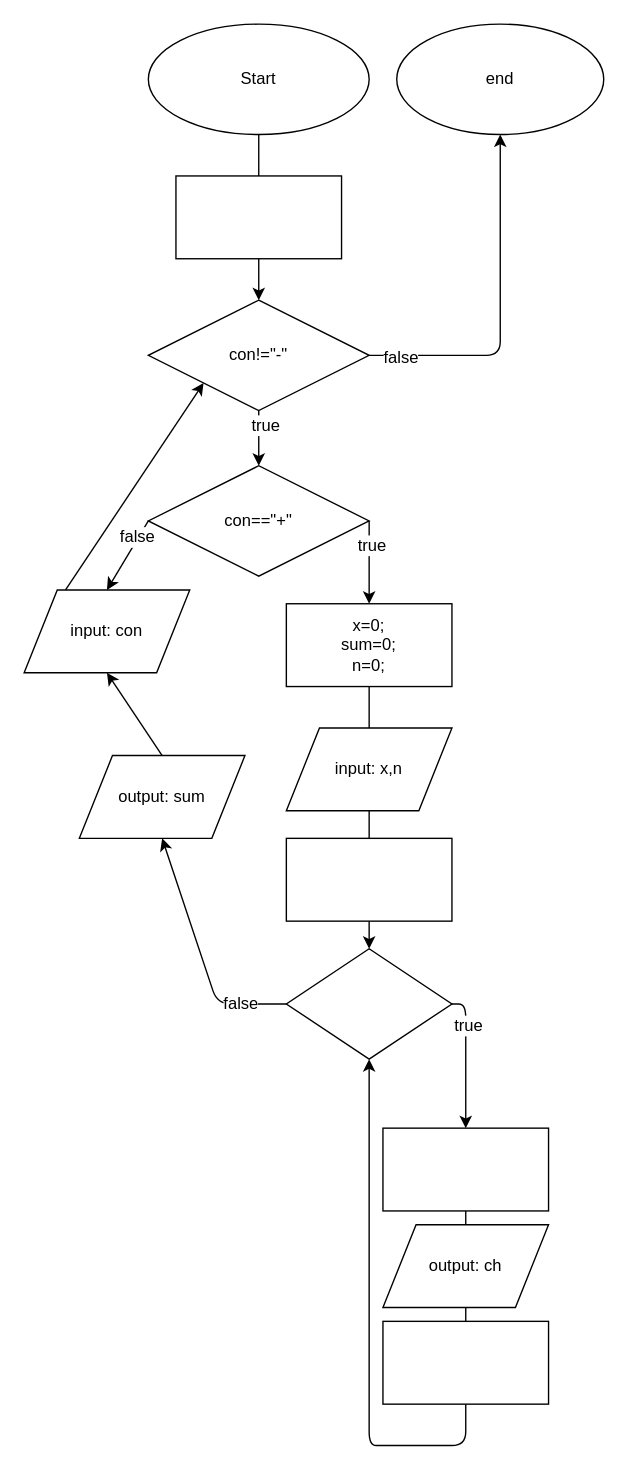
Some shapes in this 628 by 1481 pixel diagram are drawn without their labels. Here are the shapes that lost their labels. From the top down, the centre of each, then its label:
(x=258, y=217): con="+"
(x=368, y=879): i=1
(x=368, y=1003): i<=n
(x=465, y=1169): ch=x^i; sum=sum+ch;
(x=465, y=1362): i=i+1;
